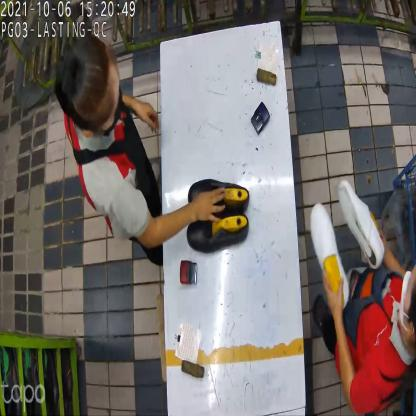shoes: (308, 178, 385, 313), (187, 183, 249, 251)
stamp: (251, 100, 271, 136), (180, 257, 198, 288)
